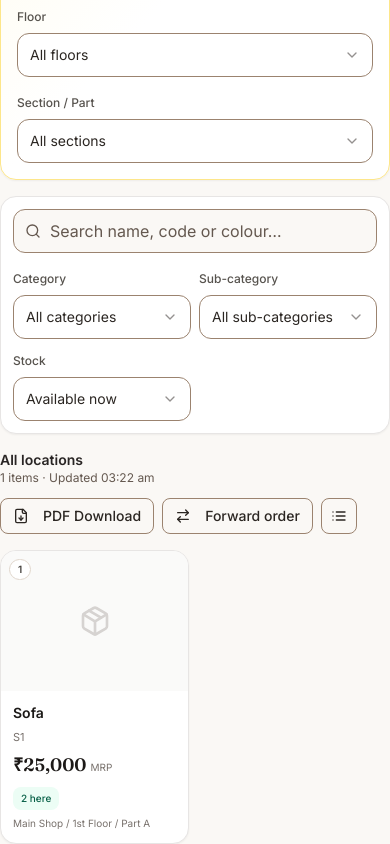
Test case: opens directly for staff, shows MRP and never asks for a second PIN or supplier price
(page scrolled)
Click the button with aria-label "Open Sofa": point(94, 697) [1,551,188,843]
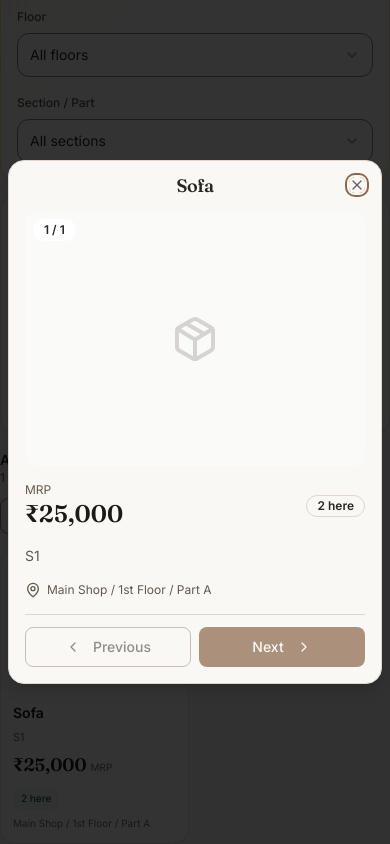
Expected: the button "Next" is disabled, [199,627,365,667]
Expected: the button "Previous" is disabled, [25,627,191,667]
